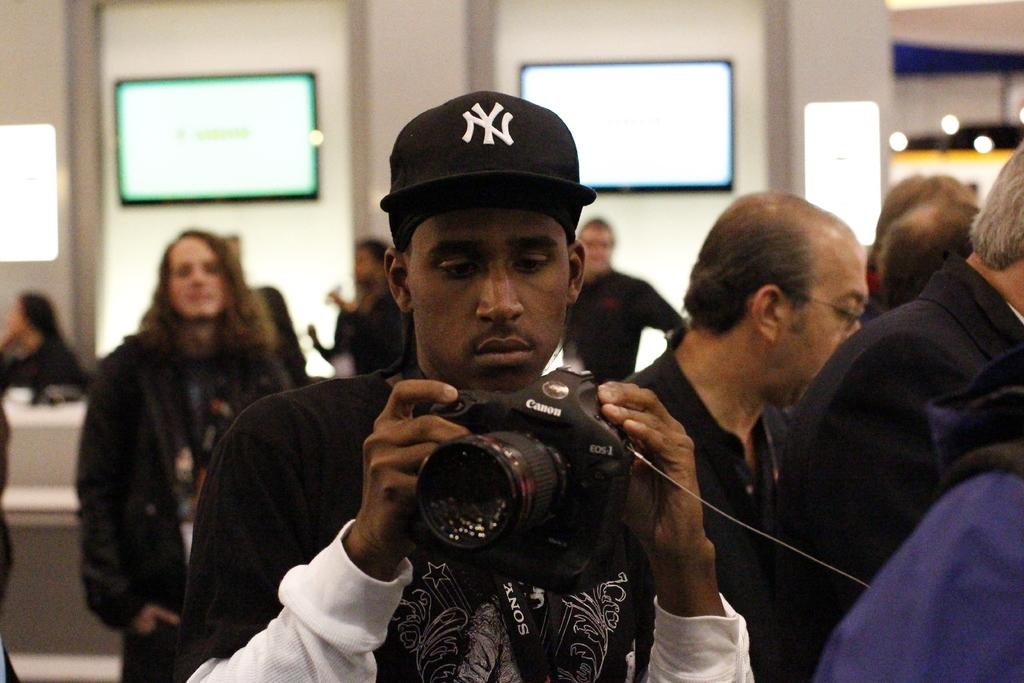Hat: (376, 95, 592, 235)
